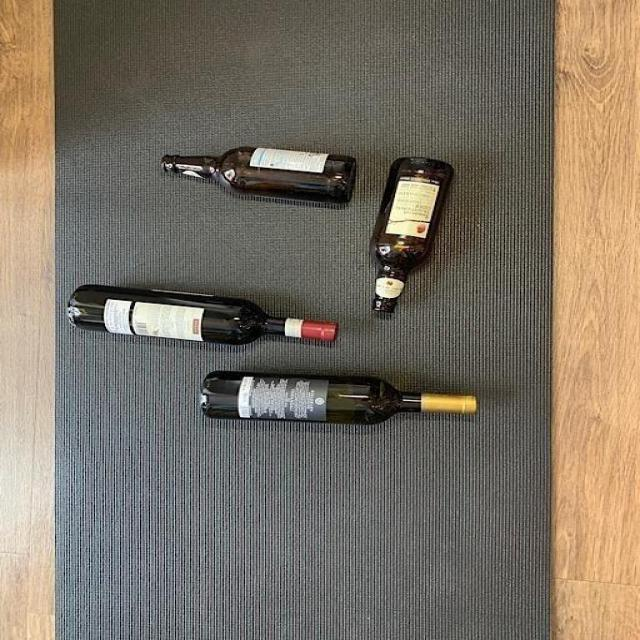bottle-glass: (70, 282, 342, 349), (200, 368, 478, 428), (365, 157, 455, 313), (162, 146, 358, 205)
